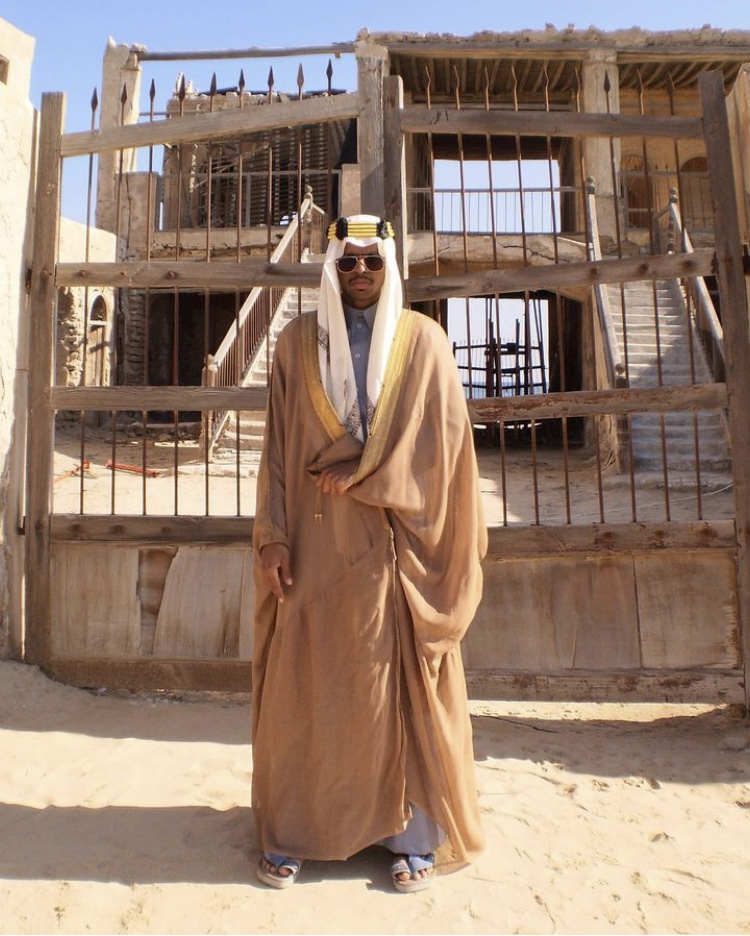Saudi_Founding_Day: (250, 208, 488, 896)
